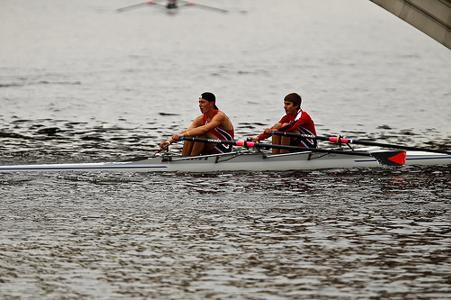person: (159, 91, 238, 158)
